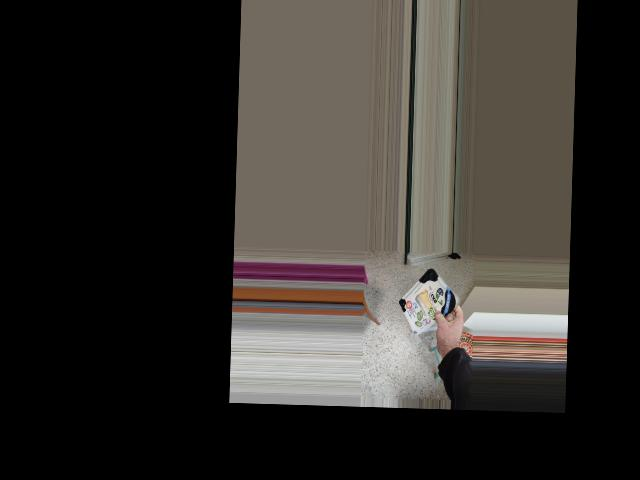cheese: (394, 276, 473, 327)
